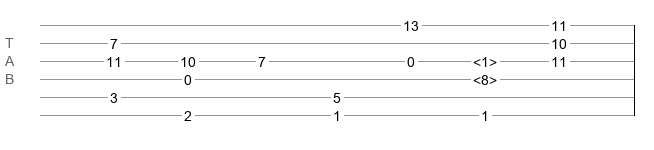0: (184, 72, 192, 82), (407, 54, 415, 64)
1: (333, 108, 341, 118), (481, 108, 489, 118)
10: (180, 54, 196, 64), (551, 36, 567, 46)
11: (106, 54, 122, 64), (551, 18, 567, 28), (551, 54, 567, 64)
13: (403, 18, 419, 28)
2: (184, 108, 192, 118)
3: (110, 90, 118, 100)
5: (333, 90, 341, 100)
7: (110, 36, 118, 46), (258, 54, 266, 64)
harmonic: (473, 72, 497, 82), (473, 54, 497, 64)
